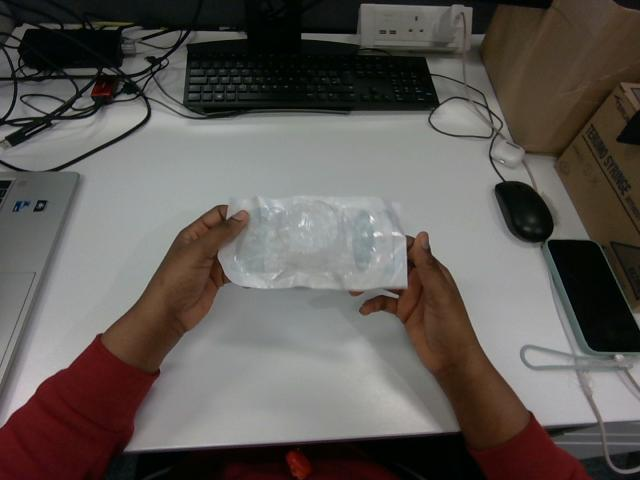gallipot: (218, 196, 406, 289)
